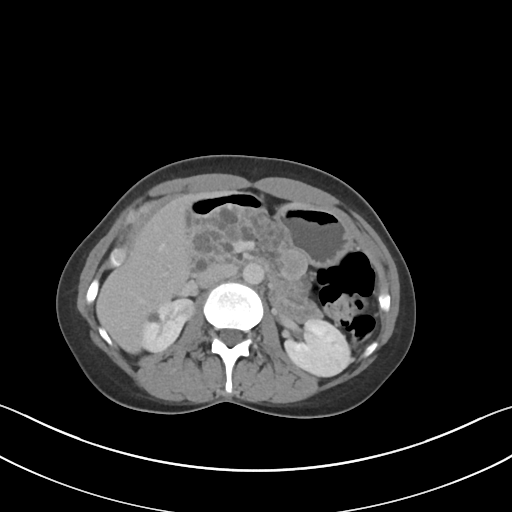Lesion: (146, 306, 162, 325)
